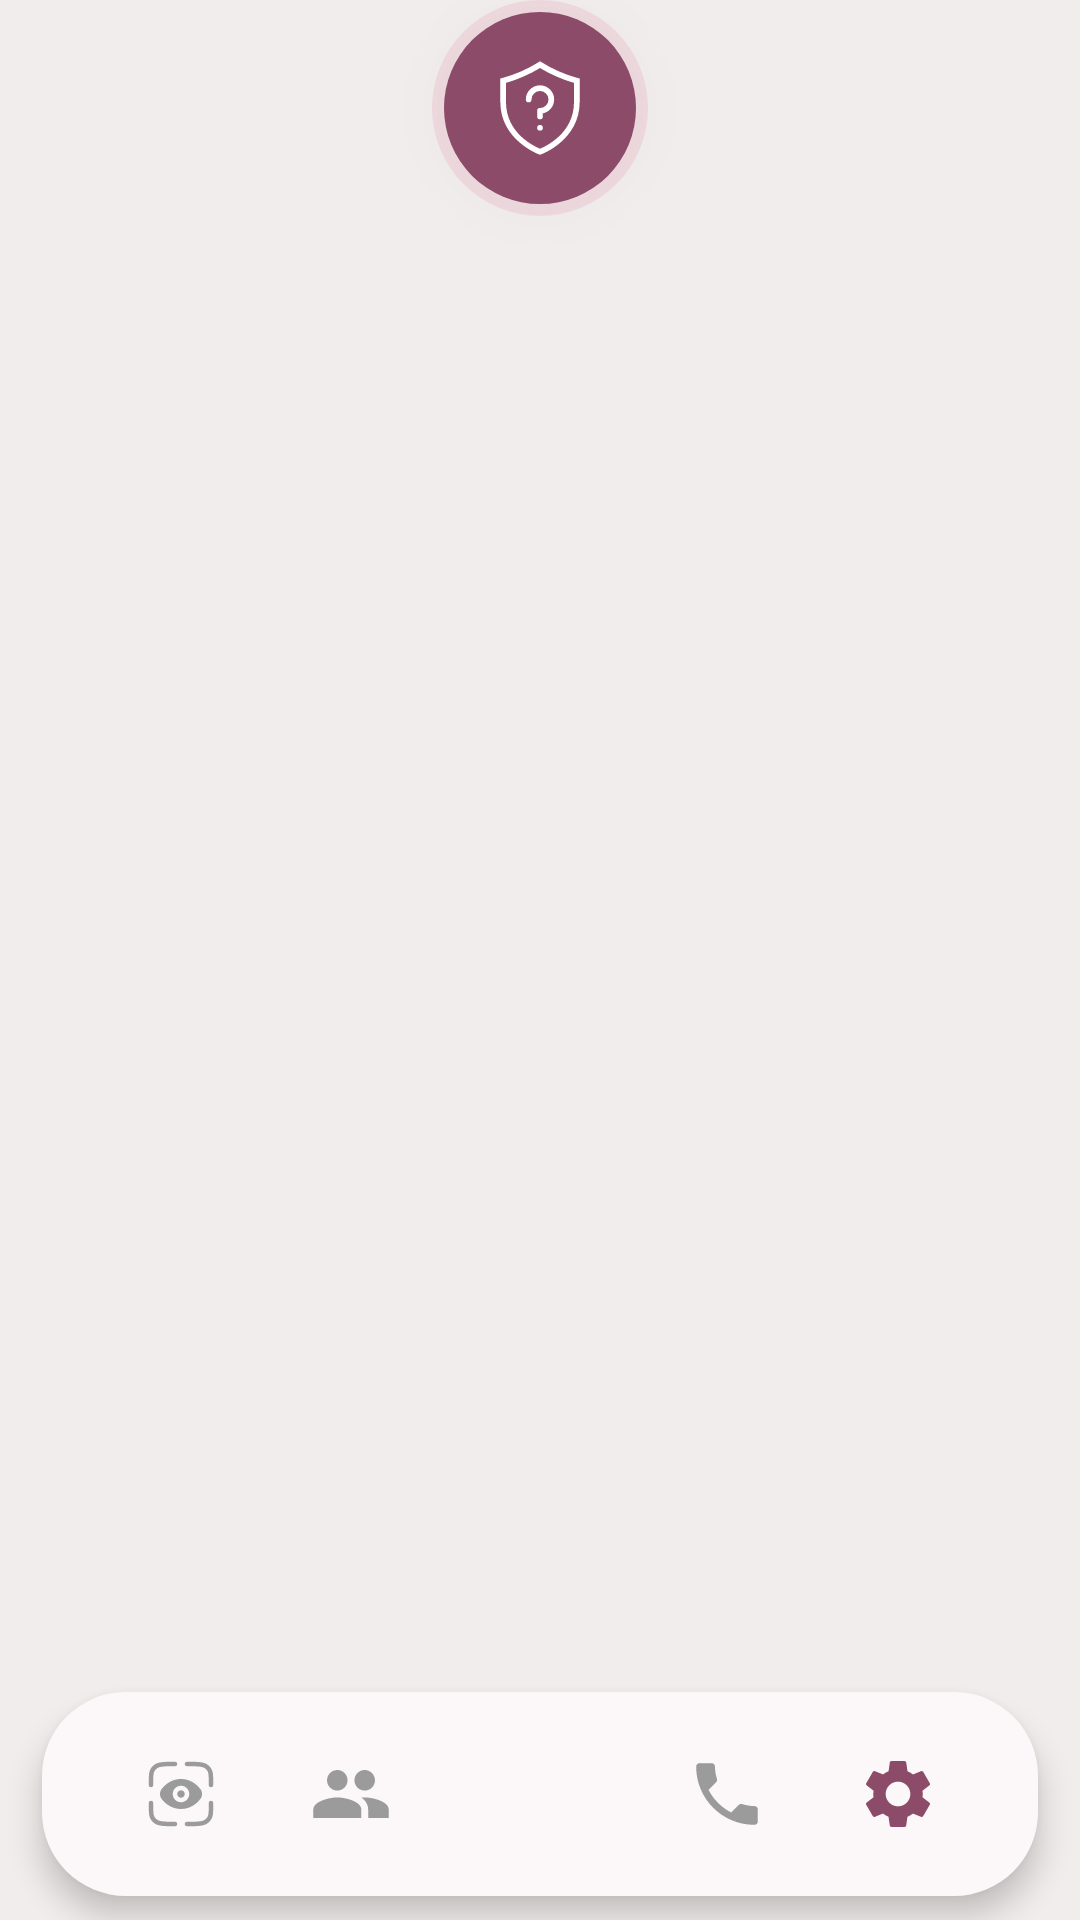

Named icons in this screenshot (1080w x 1920h) and their centers, [x,y]:
Call: [727,1794]
Contacts: [351,1794]
Settings: [898,1794]
